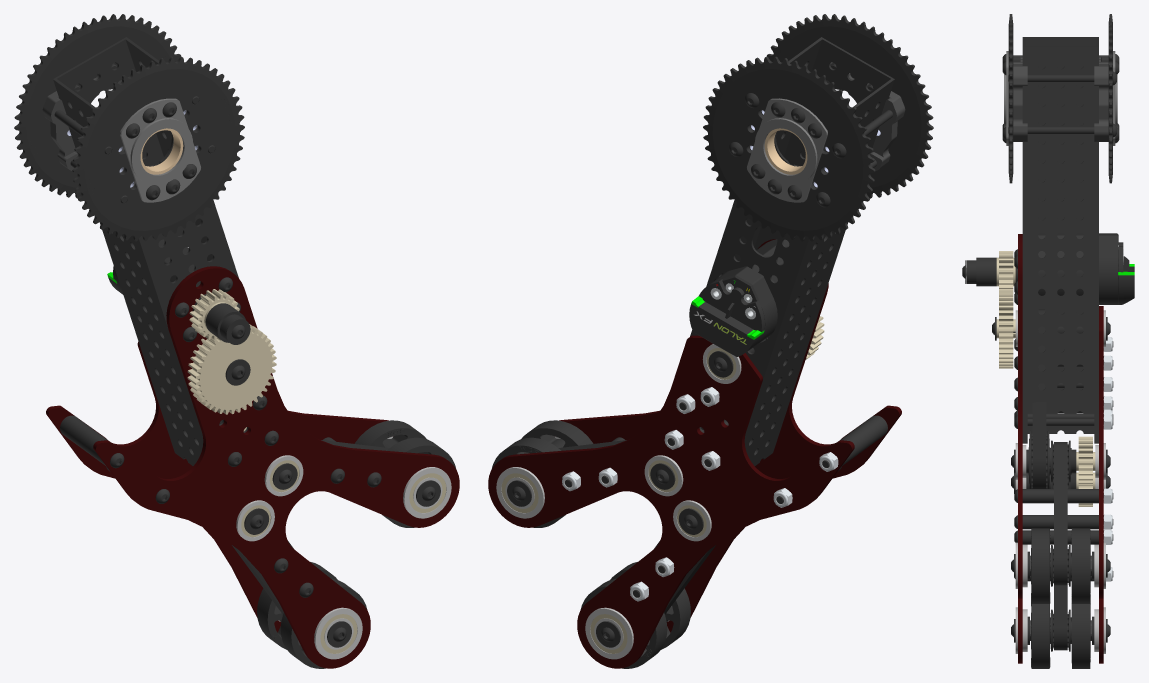
3 renders of one model, left to right at view 1: azimuth 30°, elevation 25°; view 2: azimuth 150°, elevation 25°; view 3: azimuth 270°, elevation 25°, orthographic. The views are drawn at different scales.
Visible parts, largest first — view 1: Part 4, 54t Aluminum Sprocket (#25, SplineXL Bore) (×2), 2" x 2" x 0.0625" Aluminum Box Tube (10.5" L, Full Pattern, , Part 5, 40t Aluminum Spur Gear (20 DP, 3/8" Hex Bore), 2" Flex Wheel (45A, 1/2" Wide, 1/2" Hex Bore) (×4), Part 11, 1/2" Rounded Hex (13.75mm) ID Bearing (1.125" OD, 0.313" WD, (×2), 3/8" Rounded Hex (10.25mm) ID Bearing (0.875" OD, 0.281" WD, (×2), WCP-0590-001 Rev1, 20t Aluminum Spur Gear (20 DP, 1/2" Hex Bore), #10 Aluminum Spacer (2" L, 1/2" OD) (+1 smaller); view 2: Part 5, 54t Aluminum Sprocket (#25, SplineXL Bore) (×2), 2" x 2" x 0.0625" Aluminum Box Tube (10.5" L, Full Pattern, , Part 4, Kraken X44 Brushless Motor, 2" Flex Wheel (45A, 1/2" Wide, 1/2" Hex Bore) (×4), Part 11, 1/2" Rounded Hex (13.75mm) ID Bearing (1.125" OD, 0.313" WD, (×2), 3/8" Rounded Hex (10.25mm) ID Bearing (0.875" OD, 0.281" WD, (×2), WCP-0590-002 Rev1, #10 Aluminum Spacer (2" L, 1/2" OD), 1" ID Flanged Bronze Bushing (1.125" OD, 0.313" WD); view 3: 2" x 2" x 0.0625" Aluminum Box Tube (10.5" L, Full Pattern, , 2" Flex Wheel (45A, 1/2" Wide, 1/2" Hex Bore) (×4), 55T 5M 9mm Wide Belt (×3), Kraken X44 Brushless Motor, #10 Aluminum Spacer (2" L, 3/8" OD) (×3), Part 4, 54t Aluminum Sprocket (#25, SplineXL Bore) (×2), Part 5, 1/2" Rounded Hex (13.75mm) ID Bearing (1.125" OD, 0.313" WD, (×4), 40t Aluminum Spur Gear (20 DP, 3/8" Hex Bore), #10-32 x 2-3/4" L BHCS (Steel, Black Oxide) (×2), WCP-0590-002 Rev1 (+9 smaller).
Part boxes in pixels (<box>): Part 4: <box>93,266,459,668</box>; 54t Aluminum Sprocket (#25, SplineXL Bore) (×2): <box>14,14,244,241</box>; 2" x 2" x 0.0625" Aluminum Box Tube (10.5" L, Full Pattern, : <box>53,37,248,465</box>; Part 5: <box>46,341,388,632</box>; 40t Aluminum Spur Gear (20 DP, 3/8" Hex Bore): <box>187,324,276,414</box>; 2" Flex Wheel (45A, 1/2" Wide, 1/2" Hex Bore) (×4): <box>257,420,456,668</box>; Part 11: <box>120,98,200,202</box>; 1/2" Rounded Hex (13.75mm) ID Bearing (1.125" OD, 0.313" WD, (×2): <box>314,467,451,659</box>; 3/8" Rounded Hex (10.25mm) ID Bearing (0.875" OD, 0.281" WD, (×2): <box>236,455,303,541</box>; WCP-0590-001 Rev1: <box>42,62,121,170</box>; 20t Aluminum Spur Gear (20 DP, 1/2" Hex Bore): <box>189,289,239,340</box>; #10 Aluminum Spacer (2" L, 1/2" OD): <box>60,415,111,466</box>; Part 5: <box>488,335,854,668</box>; 54t Aluminum Sprocket (#25, SplineXL Bore) (×2): <box>703,14,933,241</box>; 2" x 2" x 0.0625" Aluminum Box Tube (10.5" L, Full Pattern, : <box>690,37,894,465</box>; Part 4: <box>559,239,901,632</box>; Kraken X44 Brushless Motor: <box>689,239,789,356</box>; 2" Flex Wheel (45A, 1/2" Wide, 1/2" Hex Bore) (×4): <box>491,420,690,668</box>; Part 11: <box>747,98,827,202</box>; 1/2" Rounded Hex (13.75mm) ID Bearing (1.125" OD, 0.313" WD, (×2): <box>496,467,633,659</box>; 3/8" Rounded Hex (10.25mm) ID Bearing (0.875" OD, 0.281" WD, (×2): <box>644,455,711,541</box>; WCP-0590-002 Rev1: <box>826,62,905,170</box>; #10 Aluminum Spacer (2" L, 1/2" OD): <box>836,415,887,466</box>; 1" ID Flanged Bronze Bushing (1.125" OD, 0.313" WD): <box>764,128,807,174</box>; 2" x 2" x 0.0625" Aluminum Box Tube (10.5" L, Full Pattern, : <box>1022,37,1098,443</box>; 2" Flex Wheel (45A, 1/2" Wide, 1/2" Hex Bore) (×4): <box>1031,528,1090,668</box>; 55T 5M 9mm Wide Belt (×3): <box>1032,309,1067,650</box>; Kraken X44 Brushless Motor: <box>966,233,1134,304</box>; #10 Aluminum Spacer (2" L, 3/8" OD) (×3): <box>1022,489,1098,544</box>; Part 4: <box>1018,234,1022,663</box>; 54t Aluminum Sprocket (#25, SplineXL Bore) (×2): <box>1008,14,1112,183</box>; Part 5: <box>1099,306,1103,663</box>; 1/2" Rounded Hex (13.75mm) ID Bearing (1.125" OD, 0.313" WD, (×4): <box>1015,542,1105,653</box>; 40t Aluminum Spur Gear (20 DP, 3/8" Hex Bore): <box>996,291,1015,368</box>; #10-32 x 2-3/4" L BHCS (Steel, Black Oxide) (×2): <box>1008,71,1116,137</box>; WCP-0590-002 Rev1: <box>1013,55,1027,141</box>.
Bounding box in the file's own units: 0.2612 × 0.417 × 0.115.
